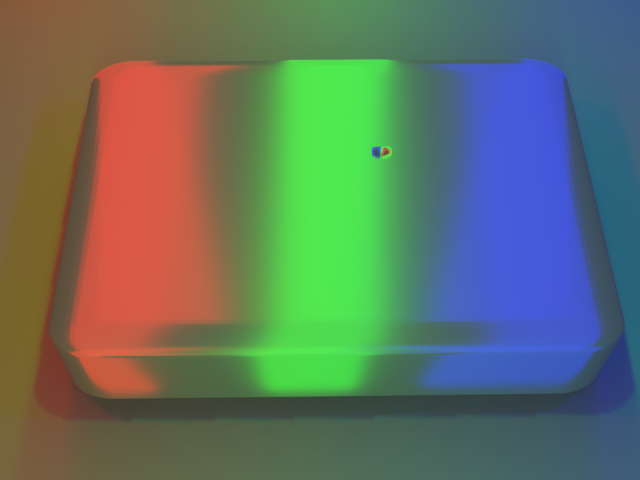dent: (365, 126, 407, 173)
